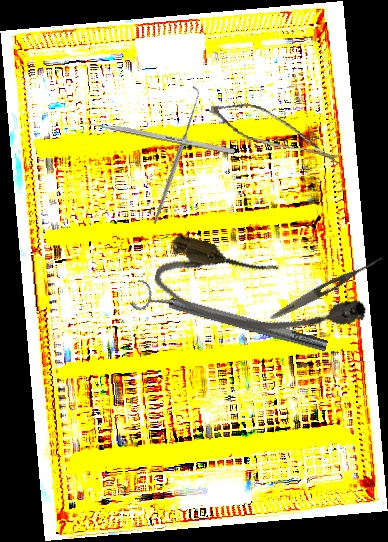Cannula: (148, 230, 372, 362)
Dressing Forceps: (268, 251, 386, 324)
Fixation Ring: (130, 277, 331, 363)
Hook Surgical: (102, 84, 248, 227)
Micro Scissor: (205, 97, 349, 165)
Pusher: (72, 117, 236, 155)
